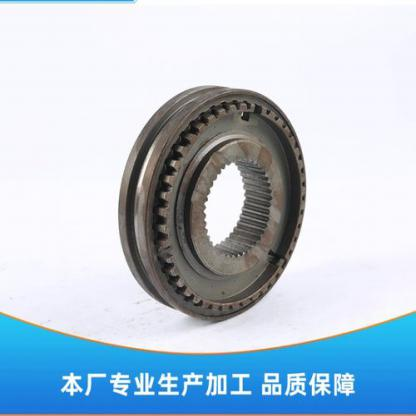FOD: (113, 80, 311, 323)
